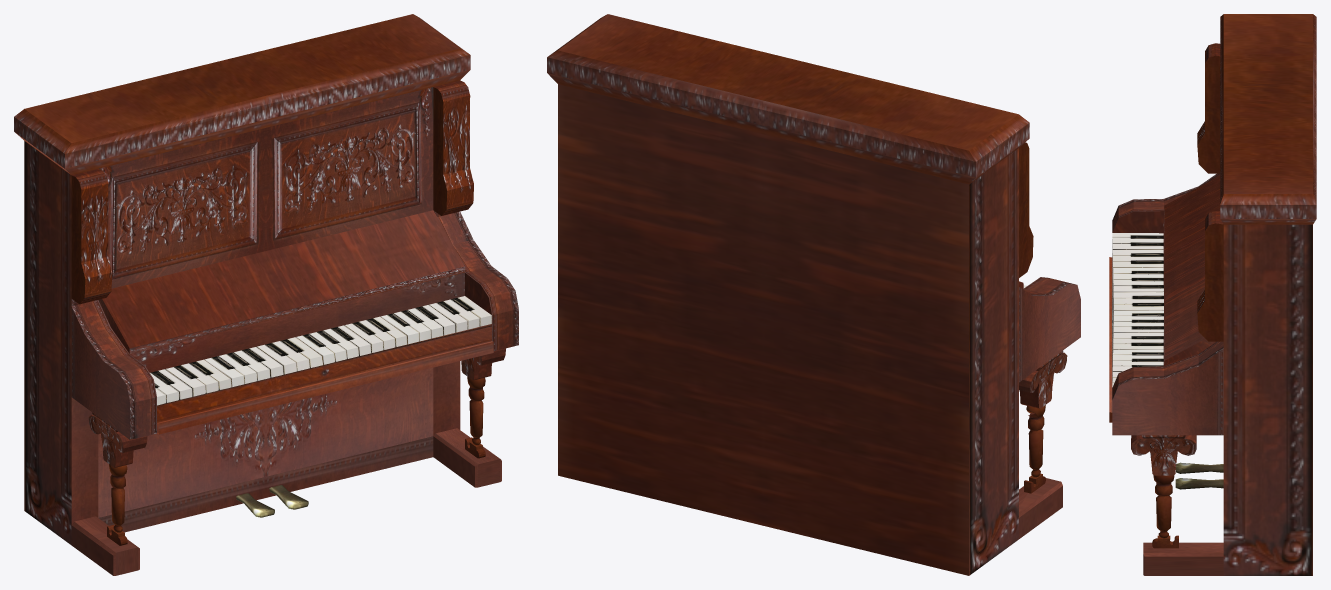
Rendered from Piano.fbx.
3 views of the same model, side by side, from view 1: azimuth 30°, elevation 25°; view 2: azimuth 150°, elevation 25°; view 3: azimuth 270°, elevation 25° (orthographic). The views are drawn at different scales.
Parts seen in each view (by area): view 1: Piano; view 2: Piano; view 3: Piano.
Boxes of the visible parts, x1,y1,x2,y2 form: Piano: [14, 14, 518, 575]; Piano: [547, 14, 1080, 575]; Piano: [1109, 14, 1316, 575].
Bounding box in the file's own units: 1834 × 1738 × 854.
